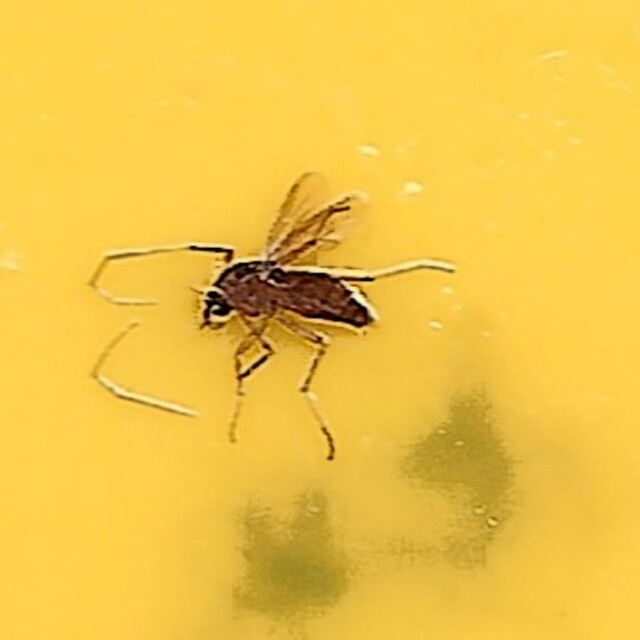Nematocera: (192, 168, 448, 472)
